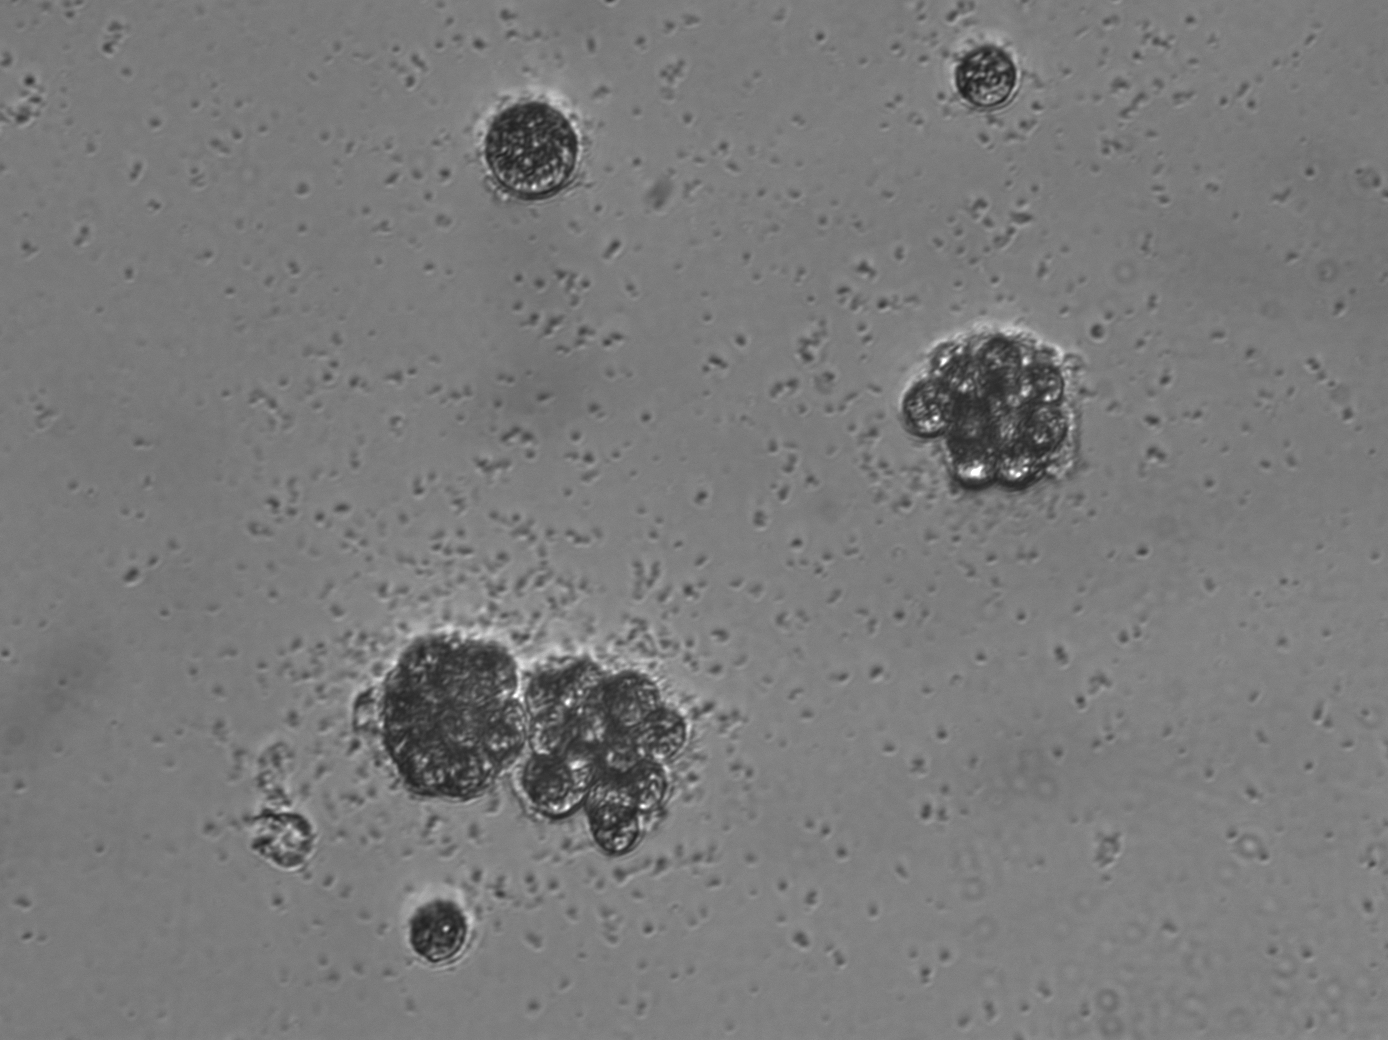ceil: (515, 657, 691, 859), (897, 329, 1076, 494), (373, 635, 530, 808), (483, 104, 578, 202), (403, 899, 473, 969), (957, 37, 1021, 108)
